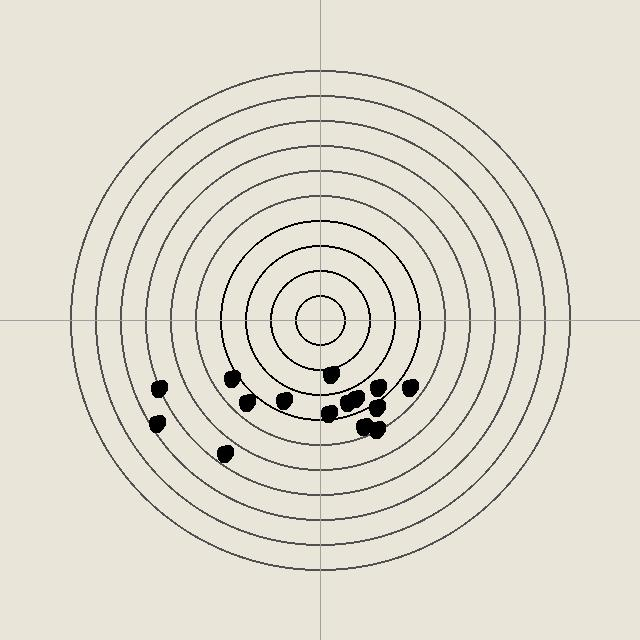horizontal_scatter: (318, 403, 338, 423), (148, 378, 168, 398), (320, 364, 340, 384), (345, 388, 365, 408), (273, 390, 293, 410), (214, 443, 234, 463), (221, 368, 241, 388), (366, 419, 386, 439), (399, 377, 419, 397), (353, 416, 373, 436), (337, 392, 357, 412), (367, 377, 387, 397), (366, 397, 386, 417), (146, 413, 166, 433), (236, 392, 256, 412)
